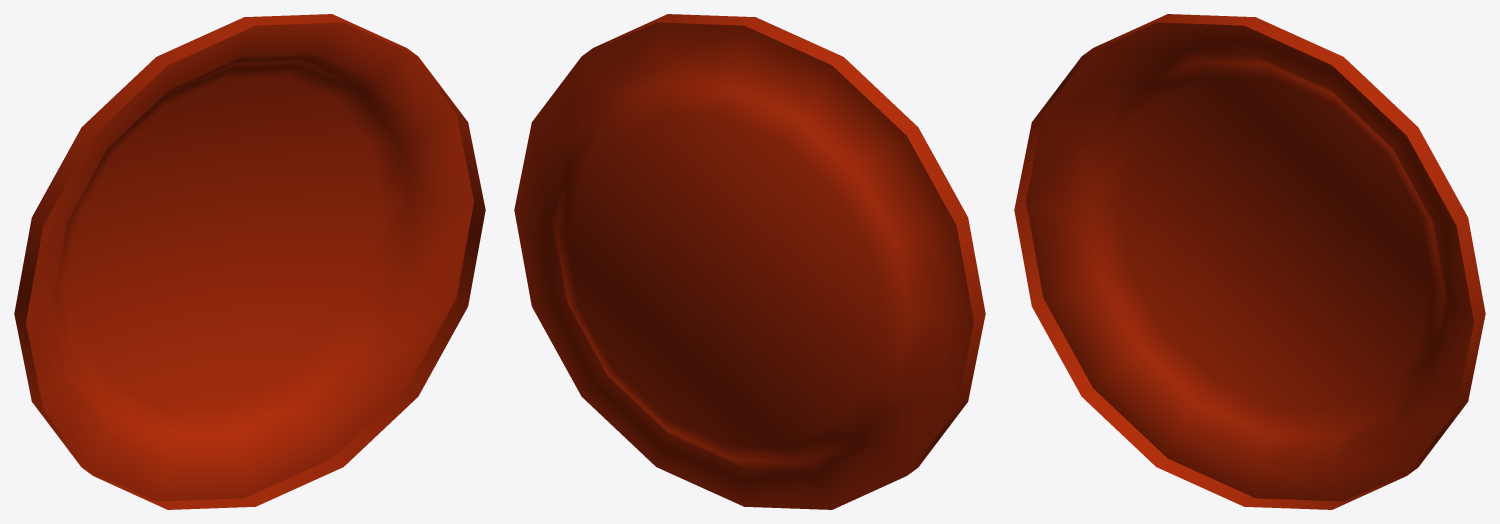
The model's file is sCap_03_LOD0.FBX.
The picture shows the model from 3 angles, left to right: view 1: azimuth 30°, elevation 25°; view 2: azimuth 150°, elevation 25°; view 3: azimuth 330°, elevation 25°; orthographic projection.
Visible parts, largest first — view 1: Caps_up1_003_LOD0; view 2: Caps_up1_003_LOD0; view 3: Caps_up1_003_LOD0.
Boxes of the visible parts, x1,y1,x2,y2 form: Caps_up1_003_LOD0: (14, 14, 485, 509); Caps_up1_003_LOD0: (514, 14, 985, 509); Caps_up1_003_LOD0: (1014, 14, 1485, 509).
Bounding box in the file's own units: 19 × 19 × 2.24.
